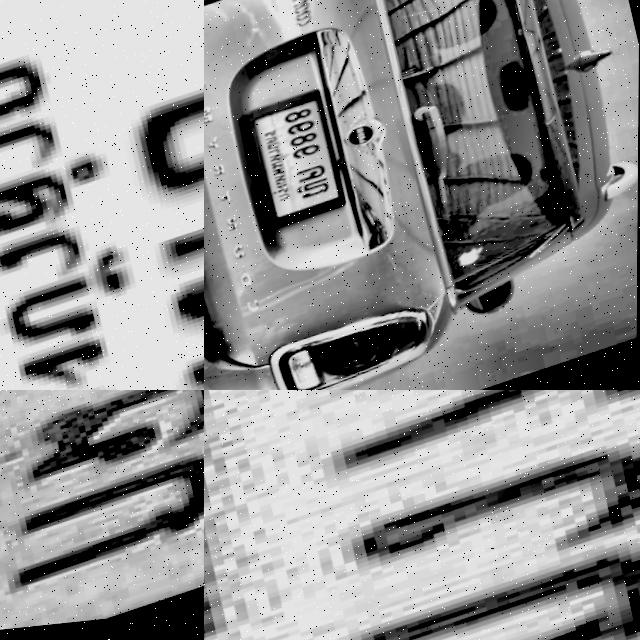license-plate: (204, 390, 640, 640), (0, 0, 204, 390), (0, 390, 204, 640), (250, 94, 351, 232)
